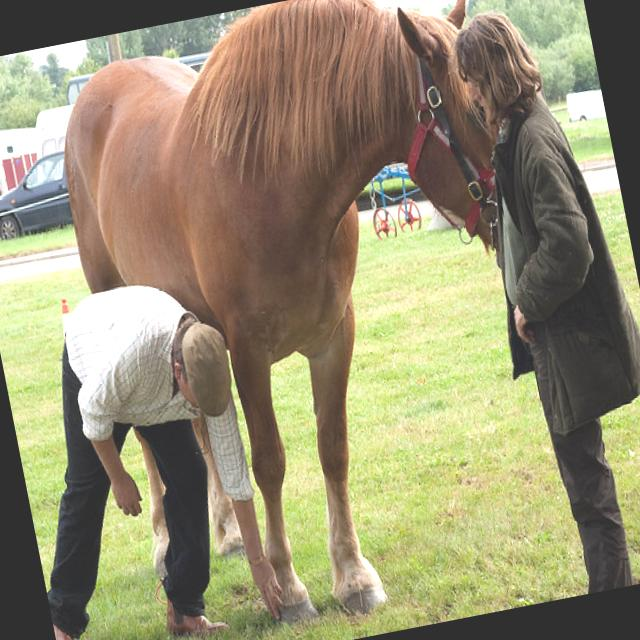Vehicle: (0, 148, 81, 240), (28, 105, 80, 158), (564, 85, 606, 124)
